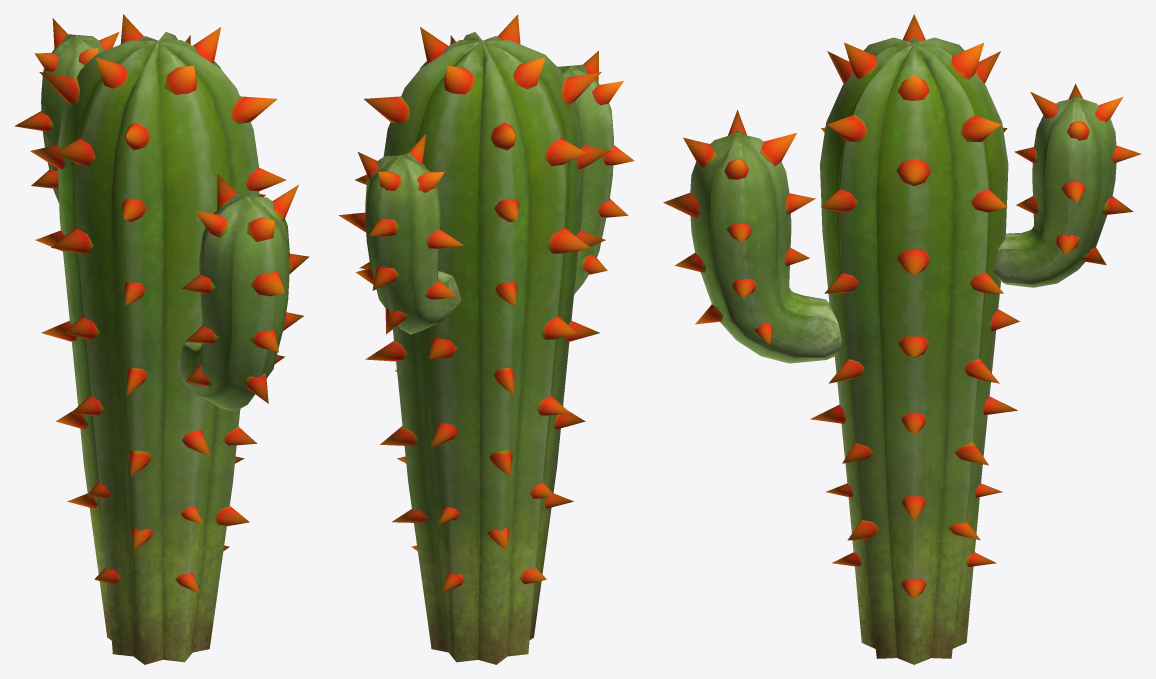
File: cactus.obj
The picture shows the model from 3 angles, left to right: view 1: azimuth 30°, elevation 25°; view 2: azimuth 150°, elevation 25°; view 3: azimuth 270°, elevation 25°; orthographic projection.
Visible parts, largest first — view 1: Body__Cactus00; view 2: Body__Cactus00; view 3: Body__Cactus00.
Part boxes in pixels (x1,y1,x2,y2): Body__Cactus00: (14, 14, 309, 664); Body__Cactus00: (338, 14, 634, 664); Body__Cactus00: (663, 14, 1141, 664).
Size of the model in its own units: 163 by 439 by 315.
